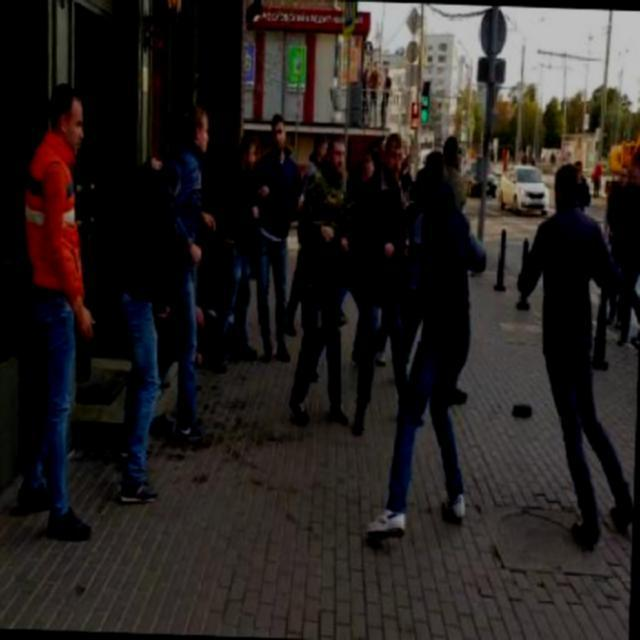non-fight: (11, 76, 107, 541), (114, 110, 215, 504), (287, 130, 358, 430), (216, 110, 296, 375)
